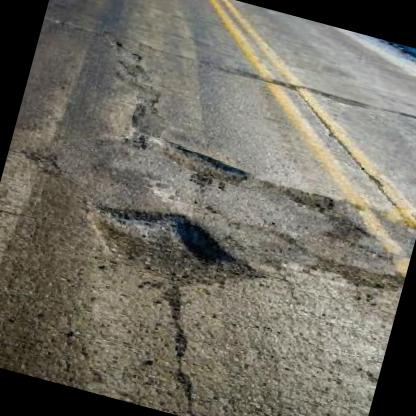pothole: (71, 188, 271, 308), (157, 138, 257, 188), (308, 248, 406, 298), (276, 180, 340, 214)
